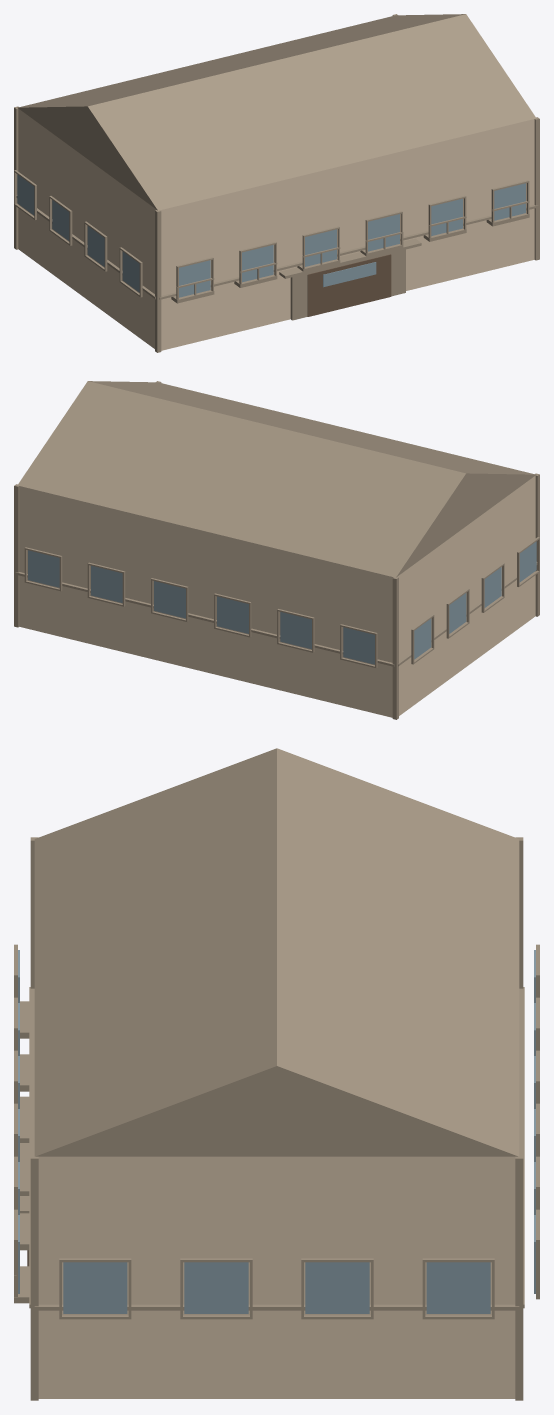
File: lot_3x2_gable.glb
3 renders of one model, top to bottom at view 1: azimuth 30°, elevation 25°; view 2: azimuth 150°, elevation 25°; view 3: azimuth 270°, elevation 25°, orthographic. The views are drawn at different scales.
Visible parts, largest first — view 1: lot_3x2_gable; view 2: lot_3x2_gable; view 3: lot_3x2_gable.
Part boxes in pixels (<box>): lot_3x2_gable: <box>14,14,539,352</box>; lot_3x2_gable: <box>14,381,539,719</box>; lot_3x2_gable: <box>14,748,539,1400</box>.
Bounding box in the file's own units: 23.74 × 11 × 15.74.
